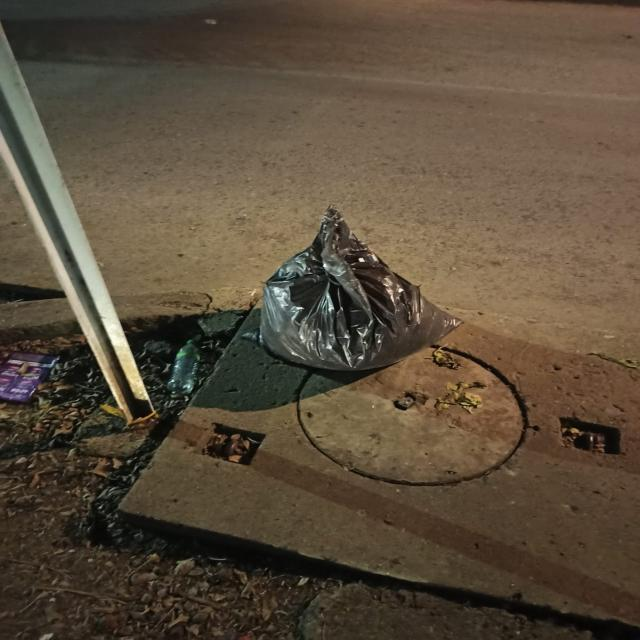Garbage_Bag: (258, 204, 468, 374)
